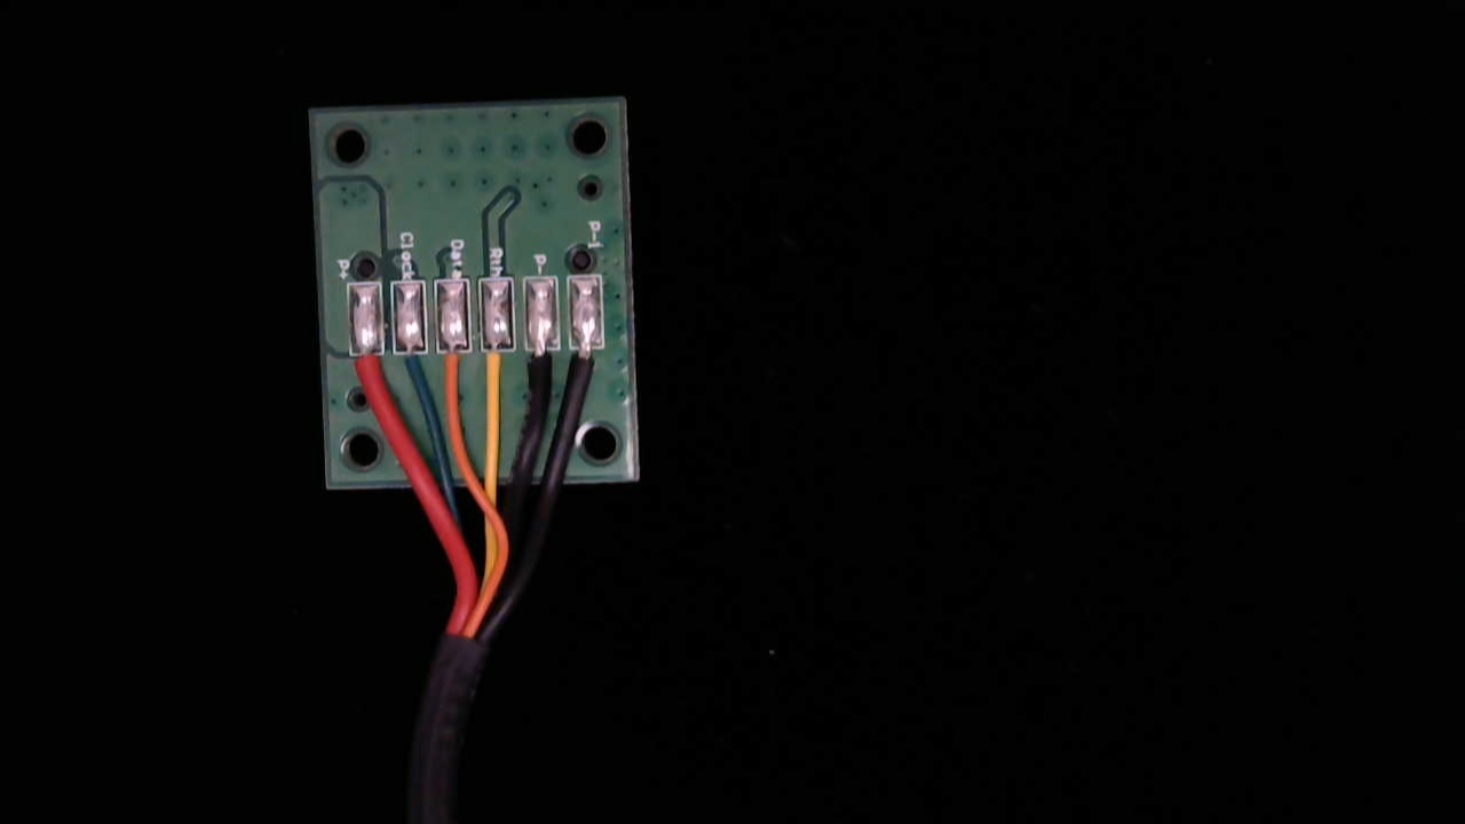Black: (514, 319, 559, 410)
Black1: (568, 320, 612, 404)
Green: (367, 321, 415, 408)
Orange: (416, 320, 460, 410)
Red: (319, 320, 366, 408)
Yellow: (465, 321, 511, 414)
